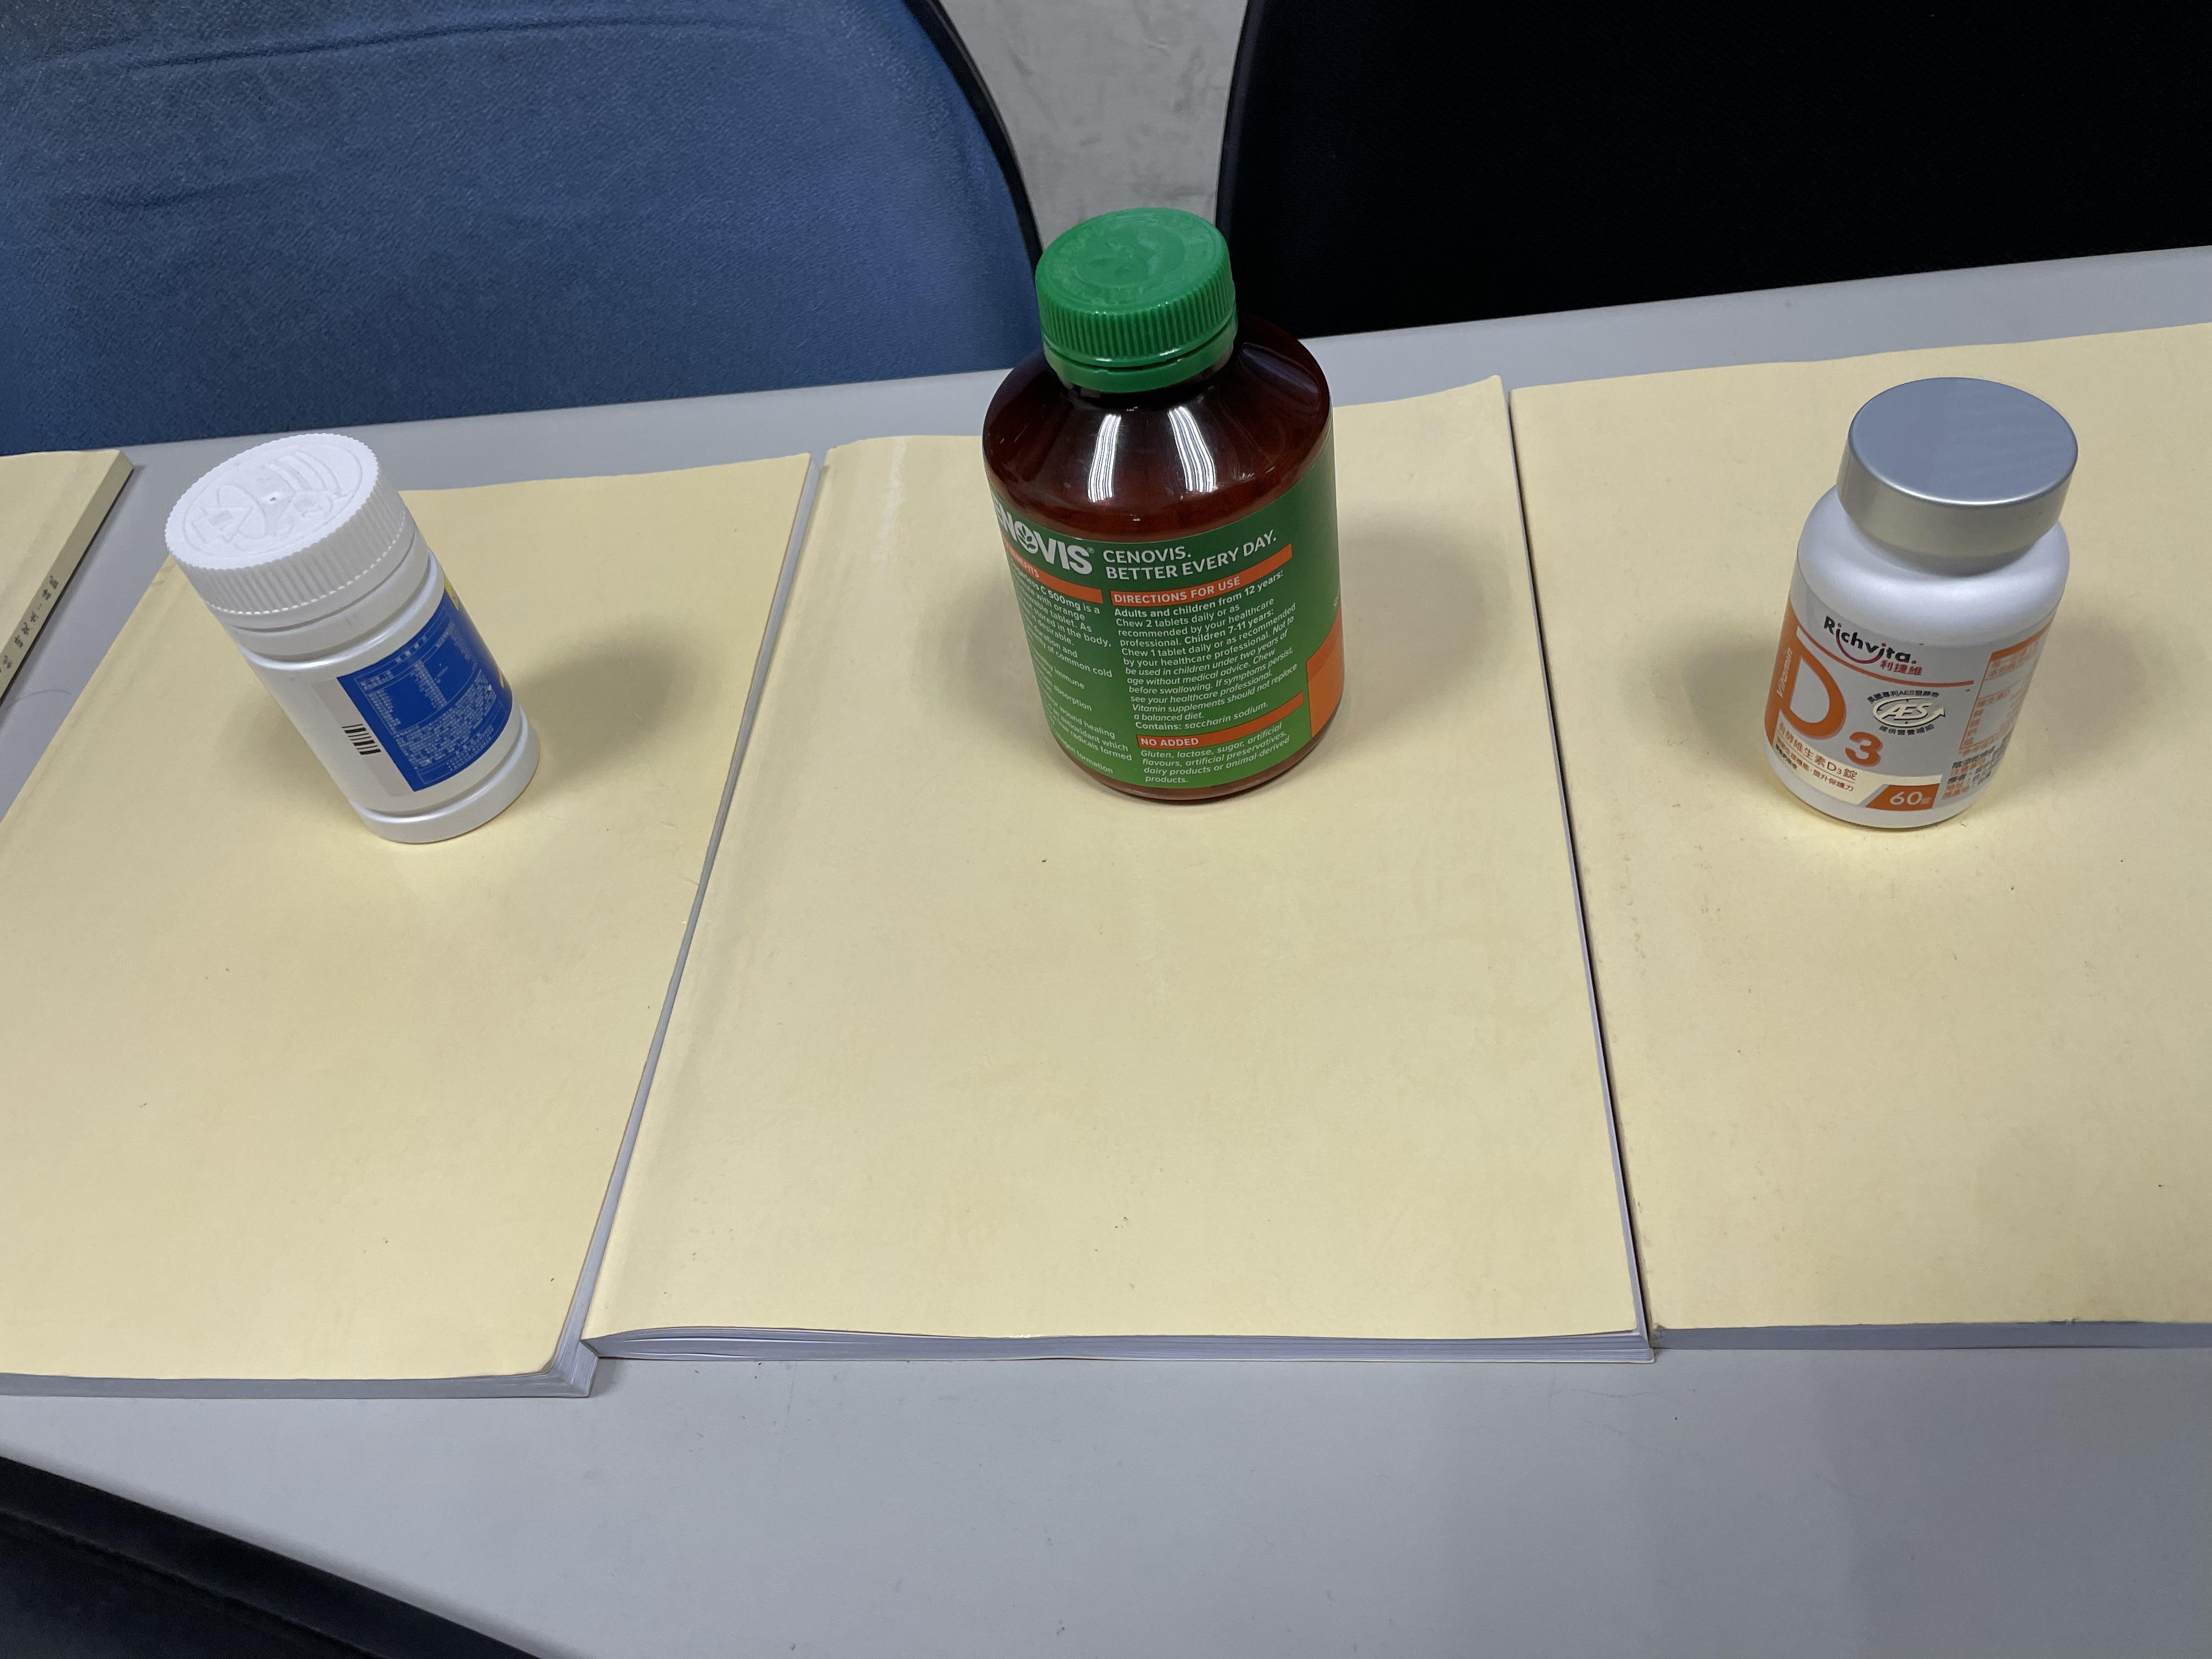jar: (927, 197, 1393, 812), (153, 406, 552, 866), (1728, 364, 2095, 836)
